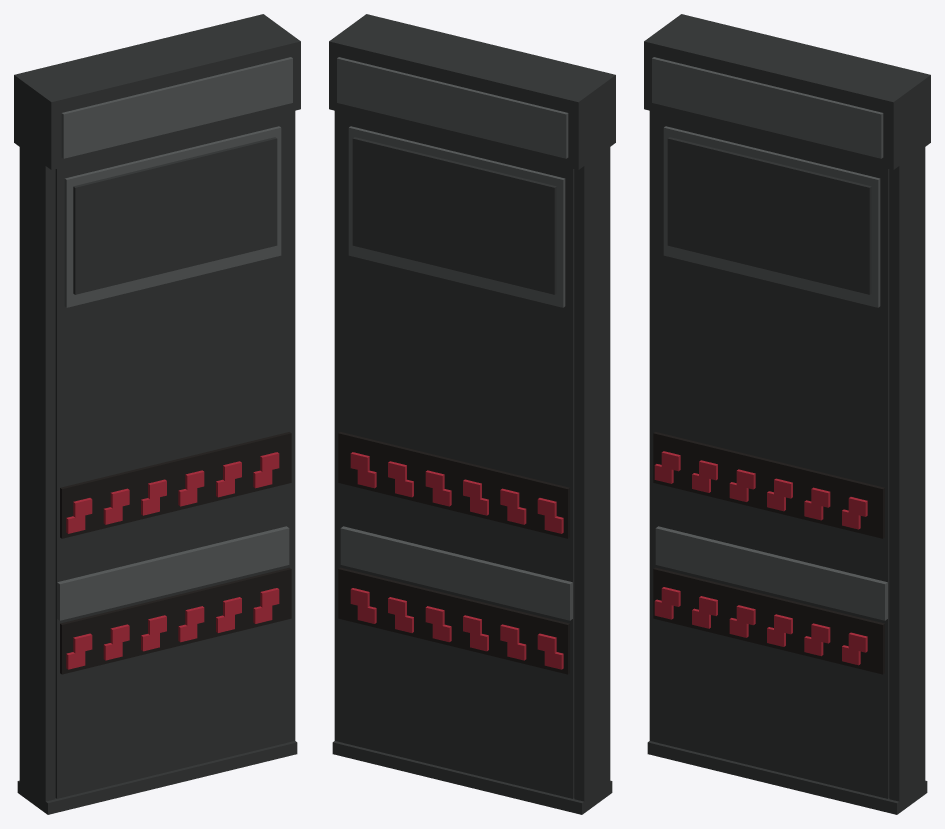
Rendered from CMU3DRedBlastDoor.glb.
The picture shows the model from 3 angles, left to right: view 1: azimuth 30°, elevation 25°; view 2: azimuth 150°, elevation 25°; view 3: azimuth 330°, elevation 25°; orthographic projection.
Parts seen in each view (by area): view 1: heavy retractable leaf, shutter guide (×2), top armor face, upper roll housing, dark warning band (×2), headbox face, central heavy rib, top armor inset, threshold; view 2: heavy retractable leaf, shutter guide (×2), top armor face back, upper roll housing, dark warning band back (×2), headbox face back, central heavy rib, top armor inset back, threshold; view 3: heavy retractable leaf, shutter guide (×2), top armor face, upper roll housing, dark warning band (×2), headbox face, central heavy rib, top armor inset, threshold.
Boxes of the visible parts, left/top/right/bottom form: heavy retractable leaf: left=55, top=113, right=286, bottom=798; shutter guide (×2): left=19, top=103, right=295, bottom=812; top armor face: left=73, top=137, right=277, bottom=294; upper roll housing: left=14, top=14, right=300, bottom=169; dark warning band (×2): left=60, top=432, right=291, bottom=674; headbox face: left=61, top=57, right=292, bottom=158; central heavy rib: left=57, top=526, right=289, bottom=620; top armor inset: left=64, top=126, right=281, bottom=307; threshold: left=17, top=741, right=297, bottom=814; heavy retractable leaf: left=343, top=113, right=574, bottom=798; shutter guide (×2): left=334, top=109, right=610, bottom=812; top armor face back: left=352, top=137, right=556, bottom=294; upper roll housing: left=329, top=14, right=615, bottom=169; dark warning band back (×2): left=338, top=432, right=569, bottom=674; headbox face back: left=337, top=57, right=568, bottom=158; central heavy rib: left=340, top=526, right=572, bottom=620; top armor inset back: left=348, top=126, right=565, bottom=307; threshold: left=332, top=741, right=612, bottom=814; heavy retractable leaf: left=658, top=113, right=889, bottom=798; shutter guide (×2): left=649, top=106, right=925, bottom=812; top armor face: left=667, top=137, right=871, bottom=294; upper roll housing: left=644, top=14, right=930, bottom=169; dark warning band (×2): left=653, top=432, right=884, bottom=674; headbox face: left=652, top=57, right=883, bottom=158; central heavy rib: left=655, top=526, right=887, bottom=620; top armor inset: left=663, top=126, right=880, bottom=307; threshold: left=647, top=741, right=927, bottom=814.
Size of the model in its own units: 1 by 2.74 by 0.302.
